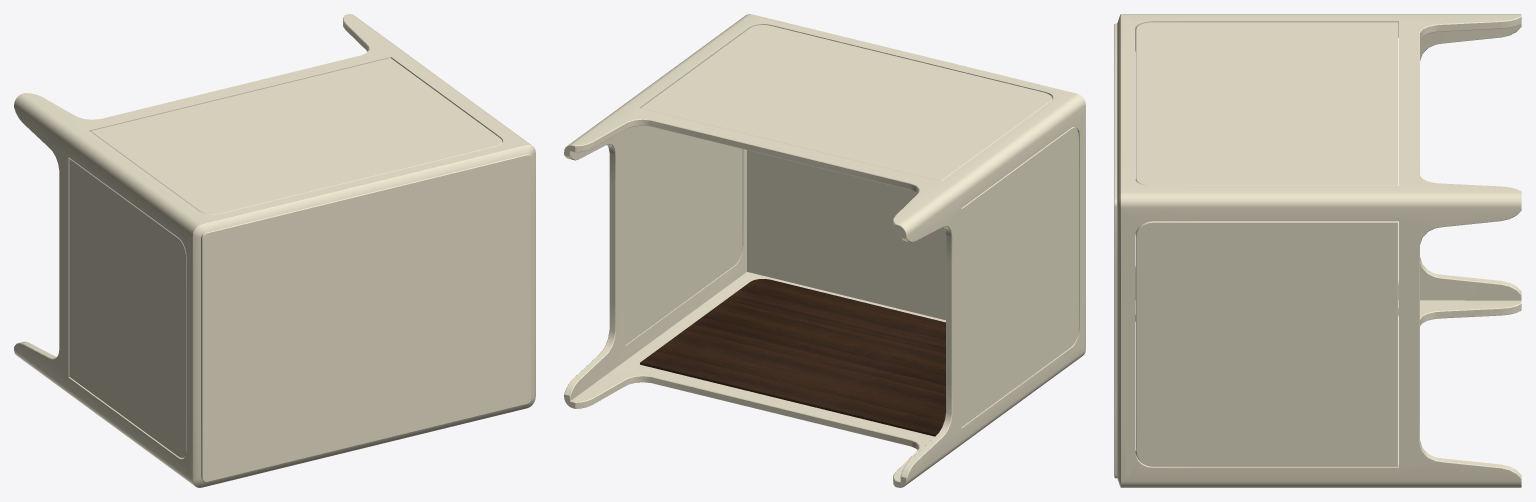
The model's file is baker-bedside-chest.obj.
The picture shows the model from 3 angles, left to right: view 1: azimuth 30°, elevation 25°; view 2: azimuth 150°, elevation 25°; view 3: azimuth 270°, elevation 25°; orthographic projection. The views are drawn at different scales.
Visible parts, largest first — view 1: Rectangle475890; view 2: Rectangle475890, Object6118; view 3: Rectangle475890.
Part boxes in pixels (x1,y1,x2,y2): Rectangle475890: (14, 14, 535, 487); Rectangle475890: (564, 14, 1085, 487); Object6118: (640, 279, 945, 436); Rectangle475890: (1114, 14, 1521, 487).
Bounding box in the file's own units: 762 × 571 × 700.
